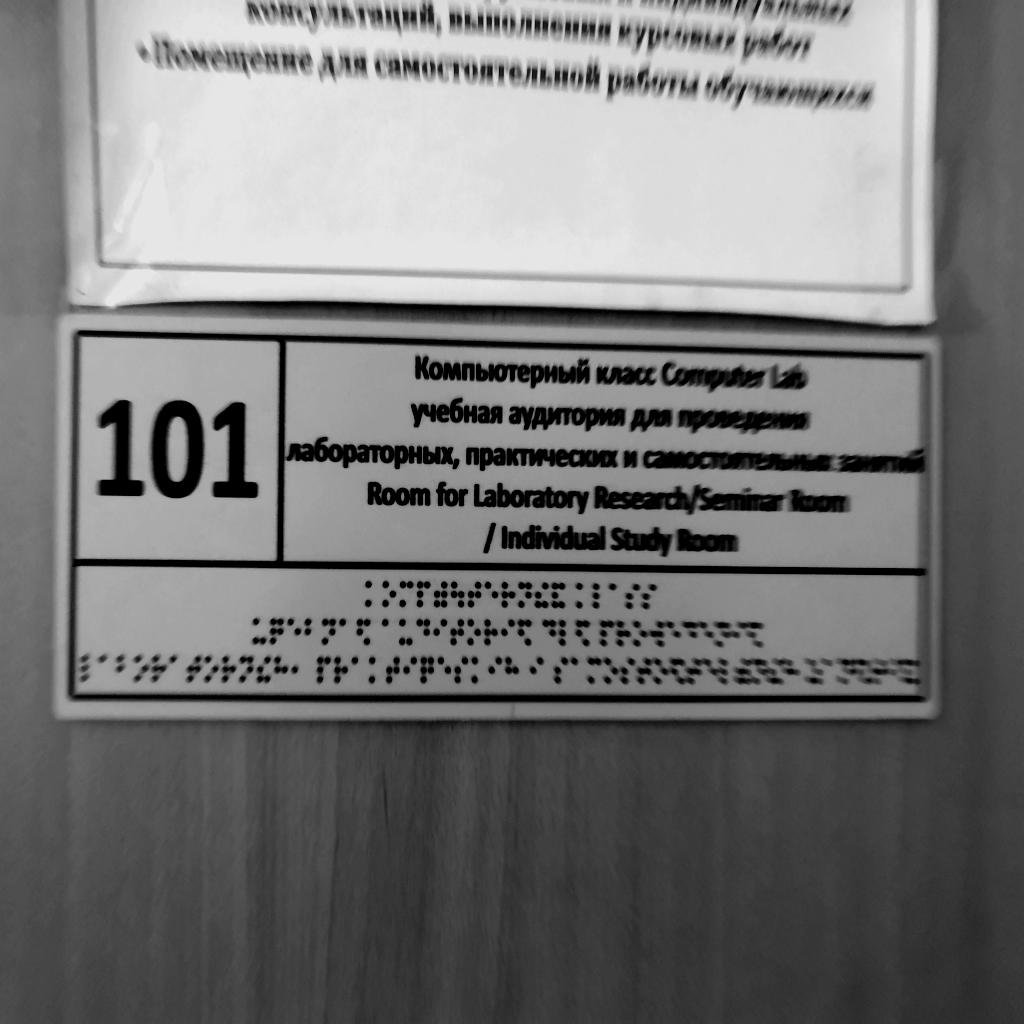_n: (321, 618, 336, 646), (238, 655, 253, 683), (754, 658, 768, 686), (717, 621, 730, 649), (519, 581, 531, 608)
_y: (399, 619, 414, 647), (252, 617, 266, 645)
a: (169, 654, 185, 682), (98, 654, 113, 683), (350, 656, 365, 683), (339, 618, 353, 645), (382, 618, 396, 645), (609, 582, 623, 608), (571, 657, 584, 684), (823, 658, 836, 684)
b: (116, 654, 131, 684), (303, 618, 318, 645)
ch: (420, 656, 435, 685), (270, 617, 284, 645)
d: (543, 619, 557, 648), (683, 621, 698, 648), (416, 618, 430, 646)
e: (437, 656, 452, 684), (699, 620, 714, 647), (667, 620, 681, 648), (287, 618, 301, 645), (704, 658, 718, 685), (485, 581, 498, 608)
i: (529, 655, 545, 685), (433, 618, 448, 646), (488, 656, 503, 684), (403, 656, 417, 684), (502, 618, 515, 647), (733, 621, 746, 649)
iKratkoe: (552, 582, 565, 610)
ii: (256, 656, 270, 684), (535, 582, 549, 609)
k: (367, 657, 384, 685), (471, 656, 486, 685), (365, 580, 380, 608), (576, 582, 589, 609)
l: (81, 654, 97, 684), (592, 582, 607, 610), (720, 658, 735, 685), (560, 619, 574, 647)
m: (588, 657, 603, 685), (400, 580, 414, 608)
myagkiy: (737, 658, 752, 686), (434, 581, 448, 608)
o: (132, 654, 149, 684), (203, 655, 219, 685), (382, 580, 397, 608), (654, 657, 669, 685), (604, 657, 619, 684), (467, 618, 481, 646), (634, 620, 648, 647)
p: (600, 620, 615, 647), (317, 656, 331, 684), (417, 581, 431, 608)
r: (150, 654, 167, 683), (221, 655, 236, 683), (334, 656, 349, 684), (484, 618, 498, 647), (618, 620, 632, 647), (502, 581, 515, 608)
s: (455, 655, 469, 685), (554, 657, 569, 685), (622, 657, 636, 686), (643, 583, 658, 610), (626, 582, 640, 610)
t: (186, 654, 201, 684), (386, 657, 401, 685), (688, 658, 703, 686), (468, 580, 481, 609), (451, 618, 464, 646), (638, 657, 651, 685)
u: (451, 581, 464, 609)
v: (651, 620, 665, 648)
x: (505, 656, 520, 684), (274, 656, 288, 685), (786, 659, 801, 686)
ya: (356, 617, 371, 647), (518, 619, 533, 648), (749, 622, 764, 651), (576, 619, 590, 648), (671, 658, 685, 685)
zapyataya: (290, 655, 305, 684)
